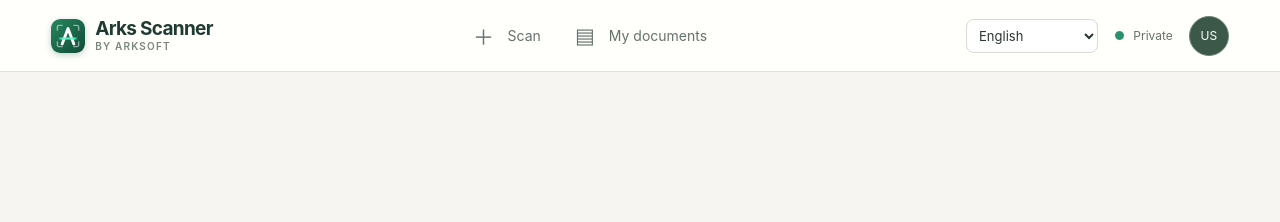
Test: AppShellComponent › links to Privacy & your data from the account menu
Click the button with aria-label "Open account menu": click(1209, 36) 1189,16 -> 1229,56
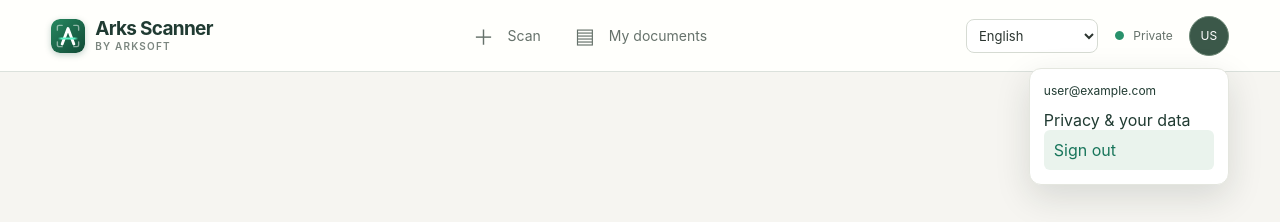
Result: the link to "/privacy" reads "Privacy & your data" at 1044,104 -> 1190,136
